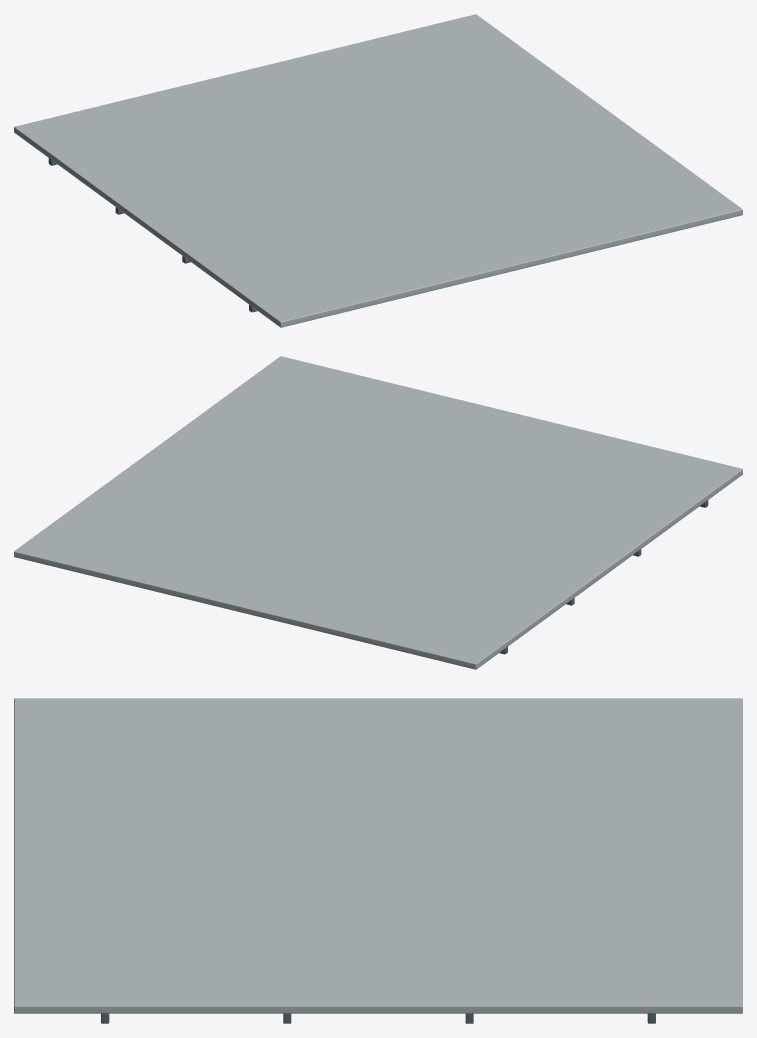
Rendered from roof.gltf.
The picture shows the model from 3 angles, top to bottom: view 1: azimuth 30°, elevation 25°; view 2: azimuth 150°, elevation 25°; view 3: azimuth 270°, elevation 25°; orthographic projection. The views are drawn at different scales.
Parts seen in each view (by area): view 1: roof; view 2: roof; view 3: roof.
Boxes of the visible parts, left/top/right/bottom form: roof: left=14, top=14, right=742, bottom=327; roof: left=14, top=356, right=742, bottom=669; roof: left=14, top=698, right=742, bottom=1023.
Size of the model in its own units: 16 by 0.6125 by 16.
4 materials, 1 textured.
